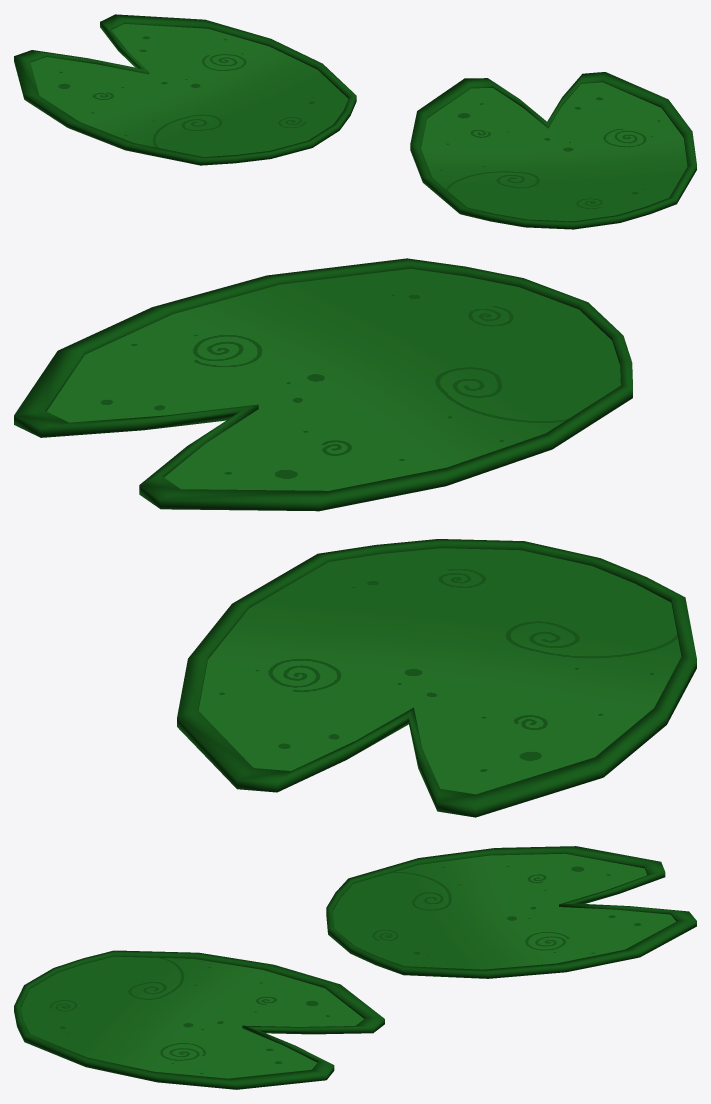
The model's file is Lilypad2.fbx.
3 renders of one model, top to bottom at view 1: azimuth 30°, elevation 25°; view 2: azimuth 150°, elevation 25°; view 3: azimuth 270°, elevation 25°, orthographic. The views are drawn at different scales.
Parts seen in each view (by area): view 1: Plane.001, Plane.005; view 2: Plane.005, Plane.001; view 3: Plane.001, Plane.005.
Boxes of the visible parts, <box> form: Plane.001: <box>14,14,356,165</box>; Plane.005: <box>410,72,696,229</box>; Plane.005: <box>14,258,632,511</box>; Plane.001: <box>177,539,696,817</box>; Plane.001: <box>326,846,696,978</box>; Plane.005: <box>14,950,384,1089</box>.
Bounding box in the file's own units: 189 × 2.04 × 229.
Materials: 1 (1 with a texture image).
